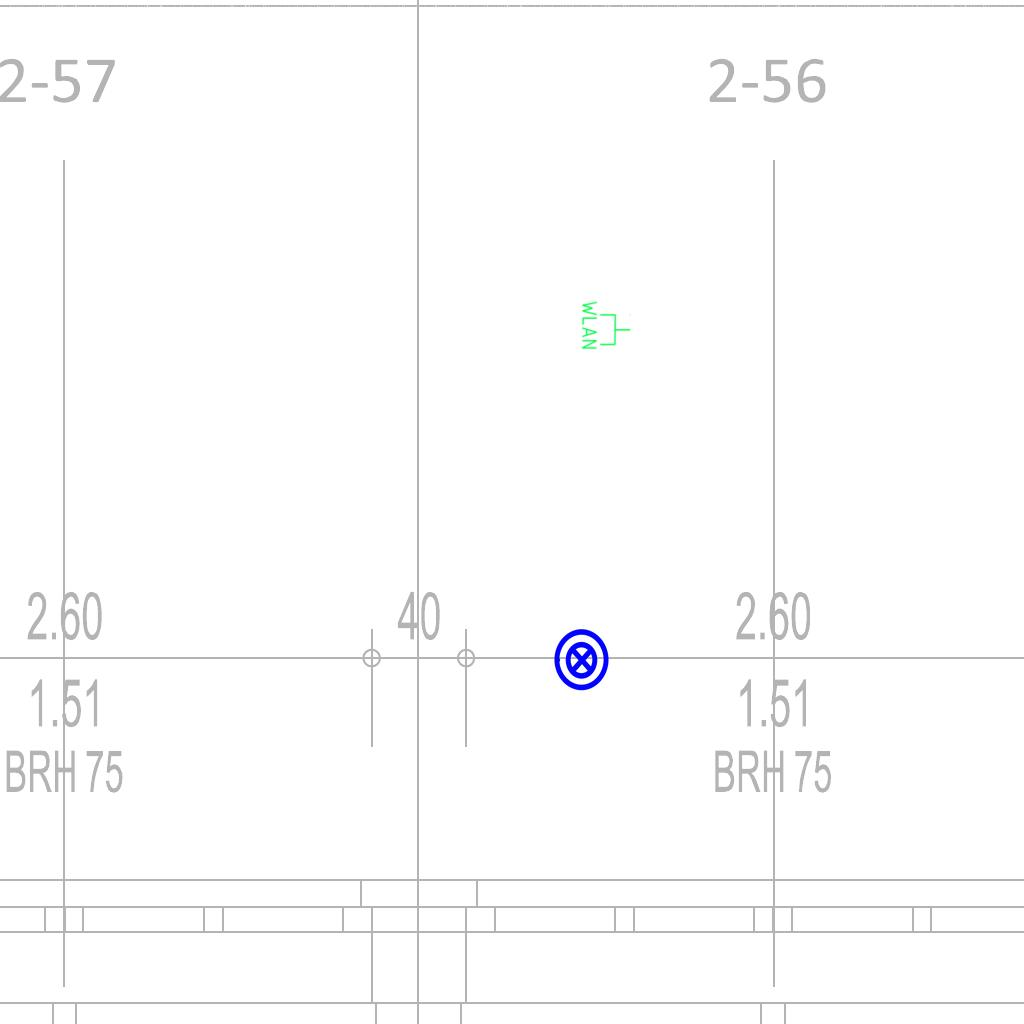Taster_beleuchtet: (549, 627, 615, 693)
WLAN: (580, 299, 632, 351)
